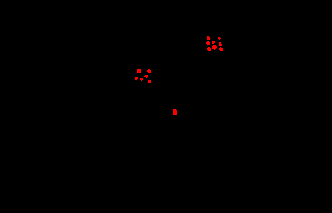Target: (212, 45, 217, 50), (173, 109, 177, 115), (206, 41, 210, 45), (207, 47, 211, 51), (219, 47, 223, 51), (137, 69, 141, 73), (147, 69, 151, 73), (207, 36, 210, 40), (219, 42, 222, 46), (144, 75, 148, 78), (218, 37, 221, 40), (212, 41, 215, 44), (135, 77, 138, 80), (140, 78, 143, 81), (148, 80, 151, 83)
